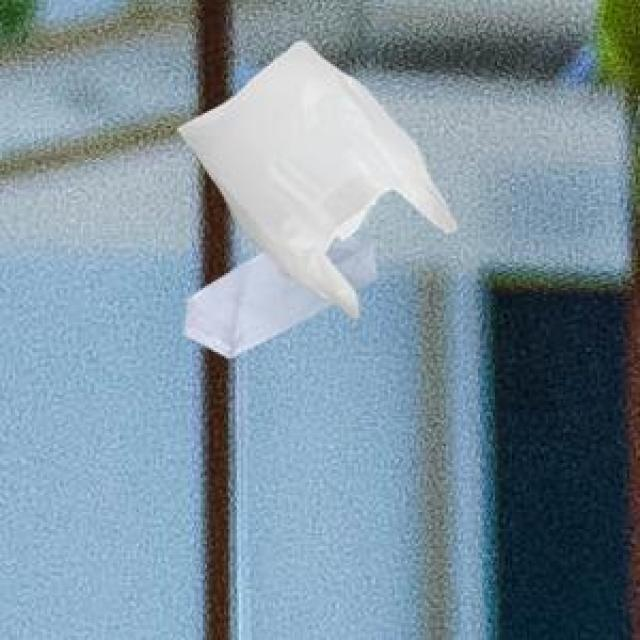waste: (179, 41, 456, 357)
